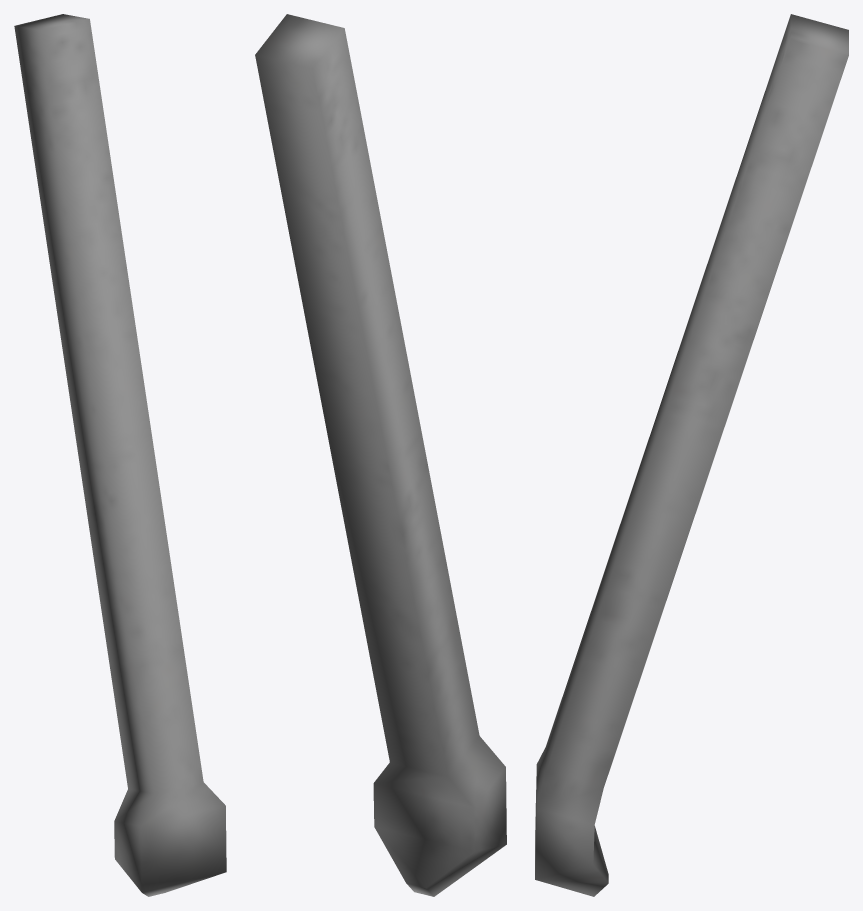
Rendered from BuckleNail_Ring.fbx.
3 renders of one model, left to right at view 1: azimuth 30°, elevation 25°; view 2: azimuth 150°, elevation 25°; view 3: azimuth 270°, elevation 25°, orthographic. The views are drawn at different scales.
Visible parts, largest first — view 1: BuckleNail_Ring_LOD0; view 2: BuckleNail_Ring_LOD0; view 3: BuckleNail_Ring_LOD0.
Part boxes in pixels (x1=…): BuckleNail_Ring_LOD0: x1=14, y1=14, x2=226, y2=896; BuckleNail_Ring_LOD0: x1=255, y1=14, x2=506, y2=896; BuckleNail_Ring_LOD0: x1=535, y1=14, x2=848, y2=896.
Size of what is drawn, in the model's own units: 3.42 by 30.99 by 10.18.
